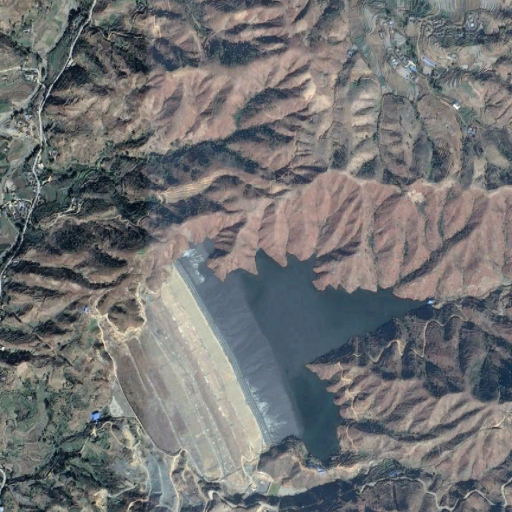tp: (106, 236, 441, 476)
